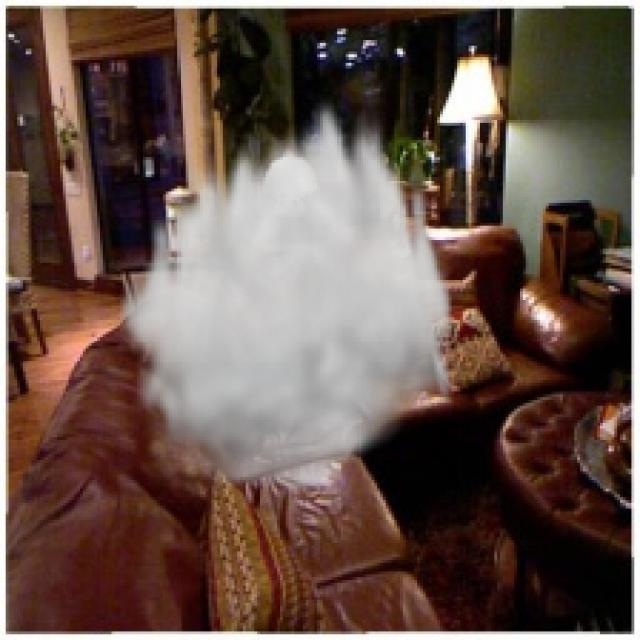smoke: (114, 86, 457, 503)
